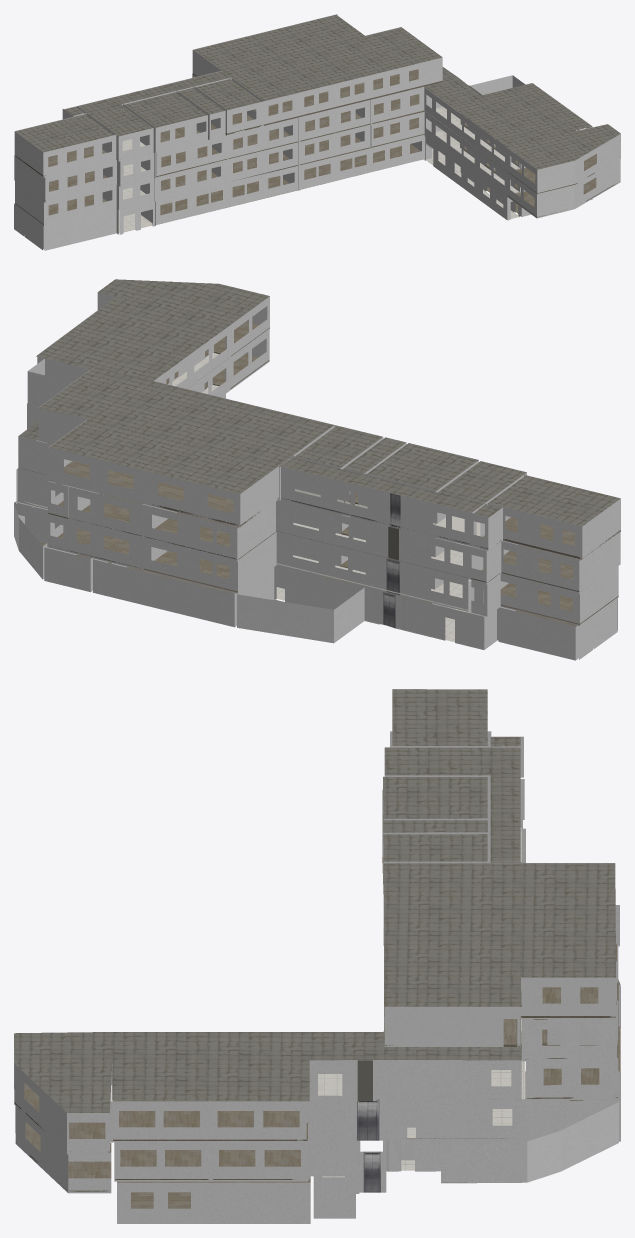
The model's file is school.FBX.
3 views of the same model, one above another, from view 1: azimuth 30°, elevation 25°; view 2: azimuth 150°, elevation 25°; view 3: azimuth 270°, elevation 25° (orthographic). The views are drawn at different scales.
Visible parts, largest first — view 1: Object016, Group001, Object006, Group003, Plane001, Group002, Object002; view 2: Object016, Group003, Group001, Object006, Plane001, Group002, Object002, Object004; view 3: Object016, Group001, Group003, Object006, Plane001, Group002, Object002.
Boxes of the visible parts, box(x1,y1,x2,y2) form: Object016: box(15, 15, 620, 169); Group001: box(15, 112, 620, 225); Object006: box(14, 74, 620, 202); Group003: box(14, 135, 592, 250); Plane001: box(14, 14, 442, 177); Group002: box(43, 94, 596, 200); Object002: box(15, 69, 442, 176); Object016: box(18, 279, 619, 526); Group003: box(14, 388, 617, 660); Group001: box(16, 328, 618, 625); Object006: box(18, 292, 620, 594); Plane001: box(39, 367, 620, 559); Group002: box(18, 320, 580, 591); Object002: box(64, 461, 620, 557); Object004: box(282, 489, 480, 544); Object016: box(14, 689, 615, 1112); Group001: box(15, 820, 618, 1193); Group003: box(117, 979, 620, 1223); Object006: box(14, 731, 619, 1154); Plane001: box(383, 689, 616, 1046); Group002: box(14, 828, 617, 1152); Object002: box(383, 815, 614, 1045).
Size of the model in its own units: 15192 by 3012 by 10187.
